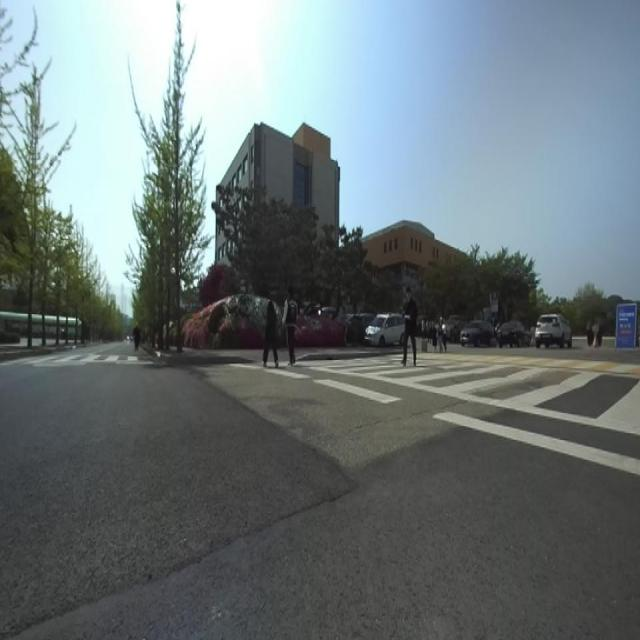sidewalk: (183, 348, 262, 356), (296, 348, 338, 357), (278, 347, 288, 360)
